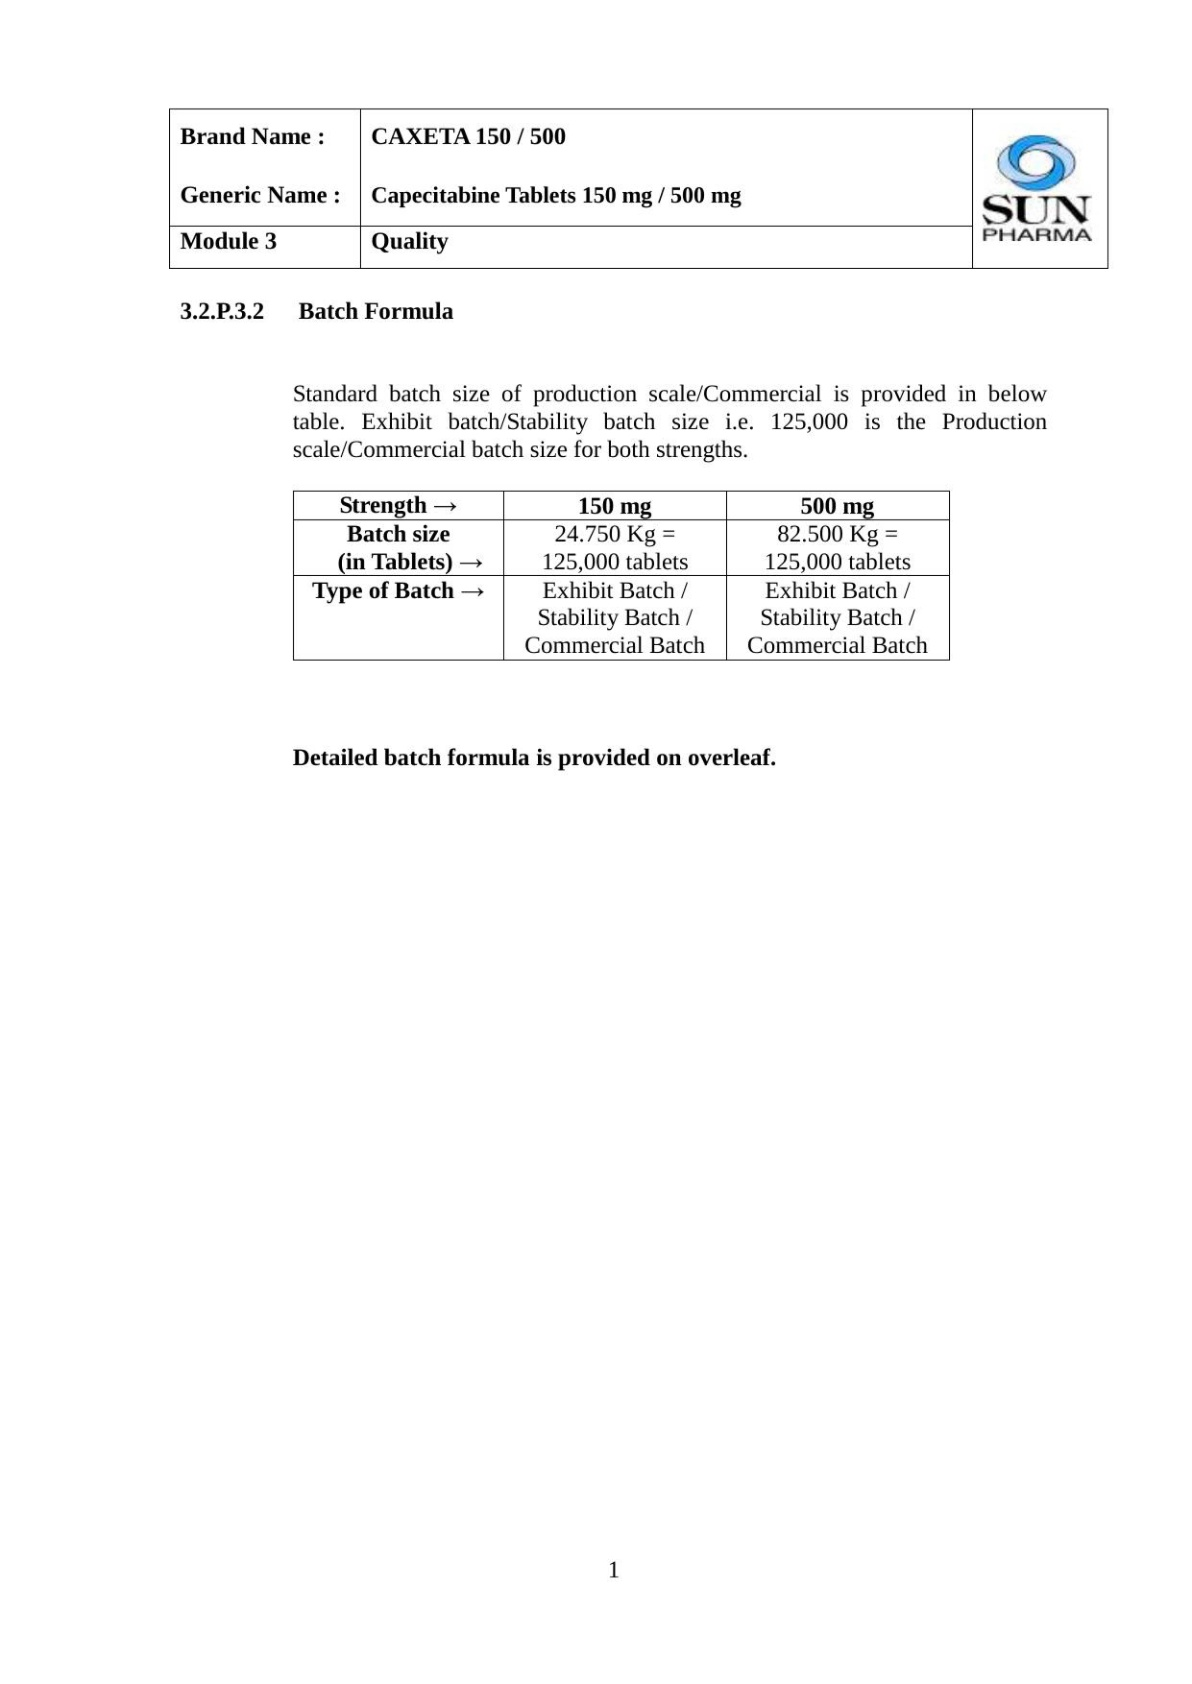full_lined: (292, 489, 951, 661)
merged_cells: (169, 107, 1109, 269)
